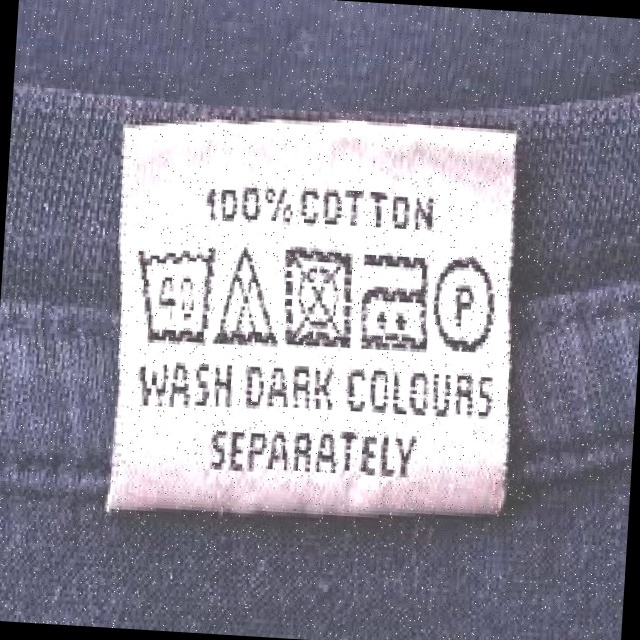40C: (129, 237, 222, 348)
DN_bleach: (213, 245, 281, 348)
DN_tumble_dry: (279, 242, 361, 349)
dry_clean_any_solvent_except_trichloroethylene: (430, 250, 498, 360)
iron_medium: (354, 248, 437, 356)
